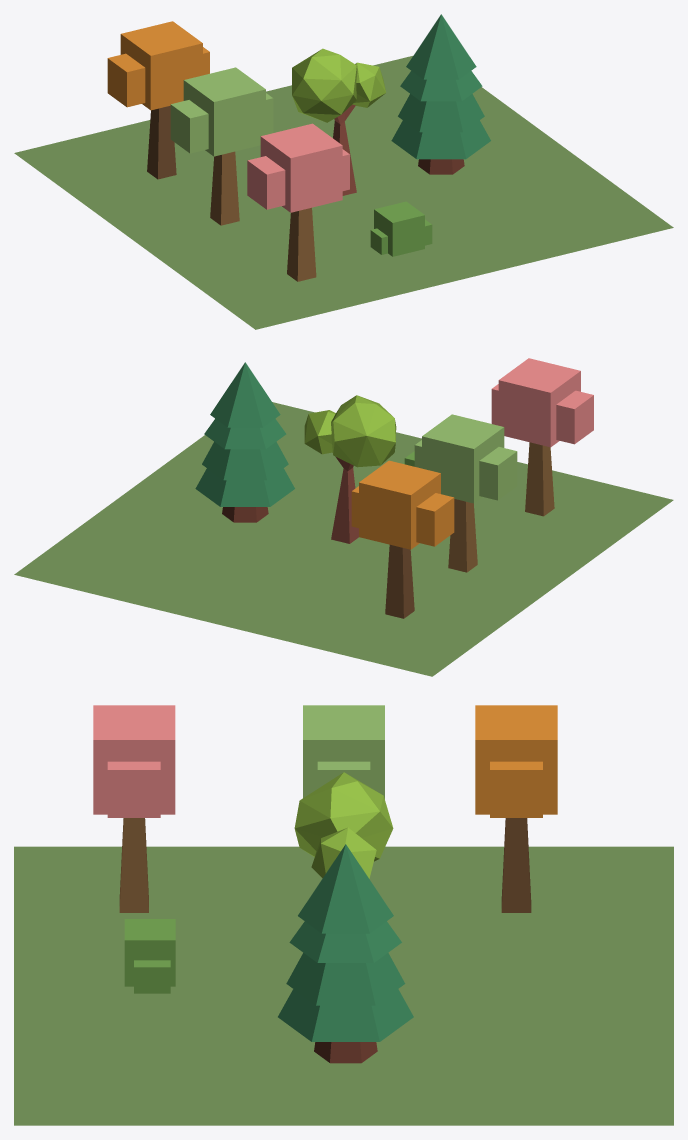
3 views of the same model, one above another, from view 1: azimuth 30°, elevation 25°; view 2: azimuth 150°, elevation 25°; view 3: azimuth 270°, elevation 25° (orthographic). The views are drawn at different scales.
Parts seen in each view (by area): view 1: Plane, Pine tree, Tree 2, Tree 1, Tree 3, Tree 4, Bushes; view 2: Plane, Pine tree, Tree 3, Tree 2, Tree 1, Tree 4; view 3: Plane, Pine tree, Tree 3, Tree 2, Tree 4, Tree 1, Bushes.
Boxes of the visible parts, x1,y1,x2,y2 form: Plane: (14, 56, 673, 329); Pine tree: (391, 14, 490, 174); Tree 2: (247, 123, 349, 281); Tree 1: (170, 67, 273, 225); Tree 3: (107, 21, 209, 179); Tree 4: (292, 48, 386, 195); Bushes: (370, 201, 432, 256); Plane: (14, 402, 673, 676); Pine tree: (195, 362, 294, 522); Tree 3: (351, 460, 454, 618); Tree 2: (491, 358, 593, 516); Tree 1: (414, 414, 517, 572); Tree 4: (304, 395, 396, 543); Plane: (14, 846, 673, 1125); Pine tree: (278, 844, 413, 1063); Tree 3: (475, 705, 557, 912); Tree 2: (93, 705, 175, 912); Tree 4: (294, 772, 393, 878); Tree 1: (303, 705, 384, 798); Bushes: (124, 919, 175, 993).
Bounding box in the file's own units: 13.26 × 4.6 × 13.26.
